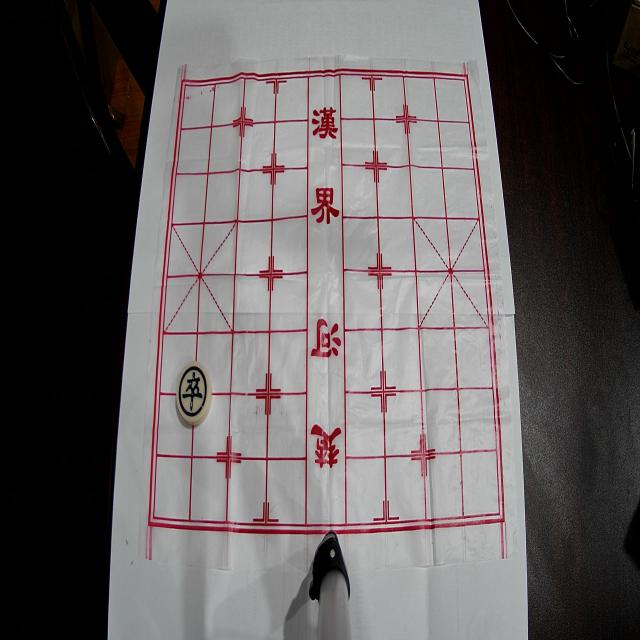black-soldier: (176, 361, 212, 426)
